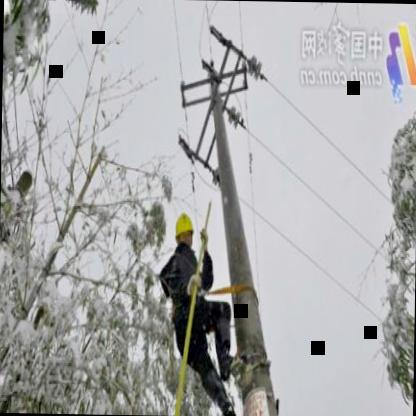helmet: (172, 209, 194, 254)
